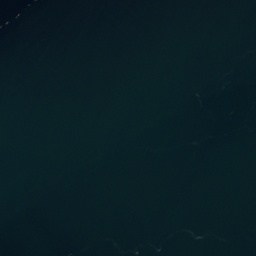Marine Debris: (15, 14, 20, 18), (0, 25, 3, 28)
